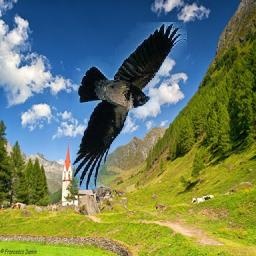Crow: (73, 22, 188, 190)
